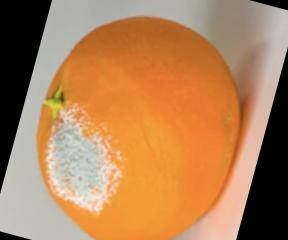Orange Rotten: (34, 13, 261, 240)
